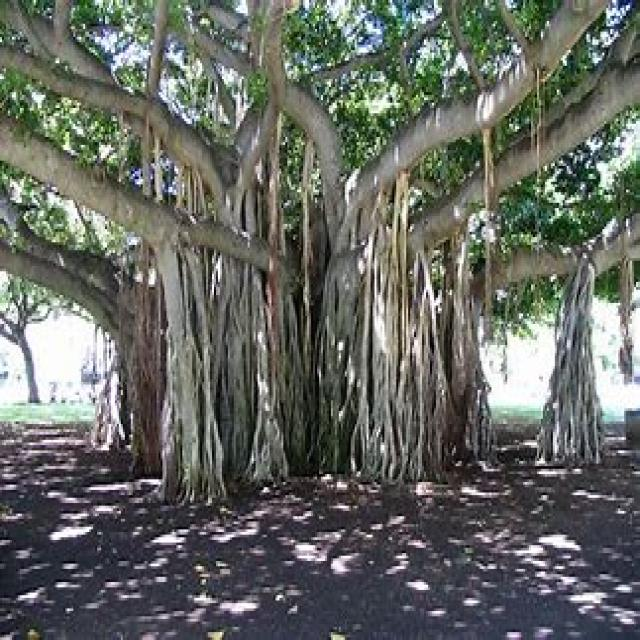Banyan-Tree: (0, 0, 640, 640), (0, 87, 640, 536)
